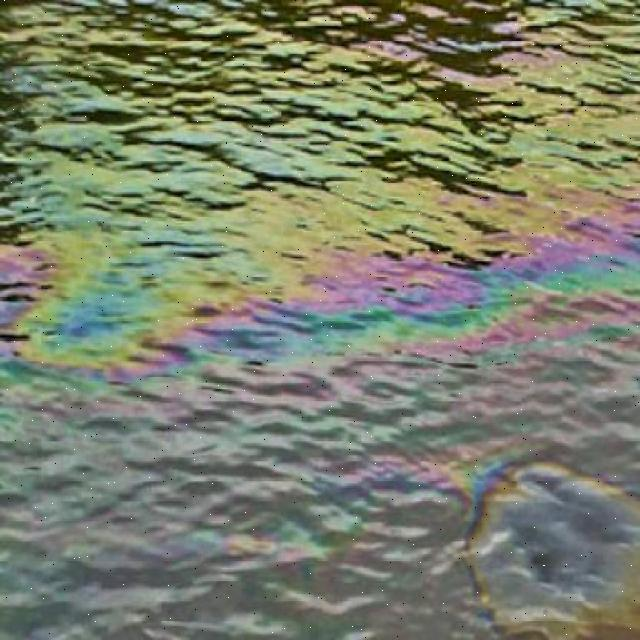rainbow: (0, 181, 640, 640)
